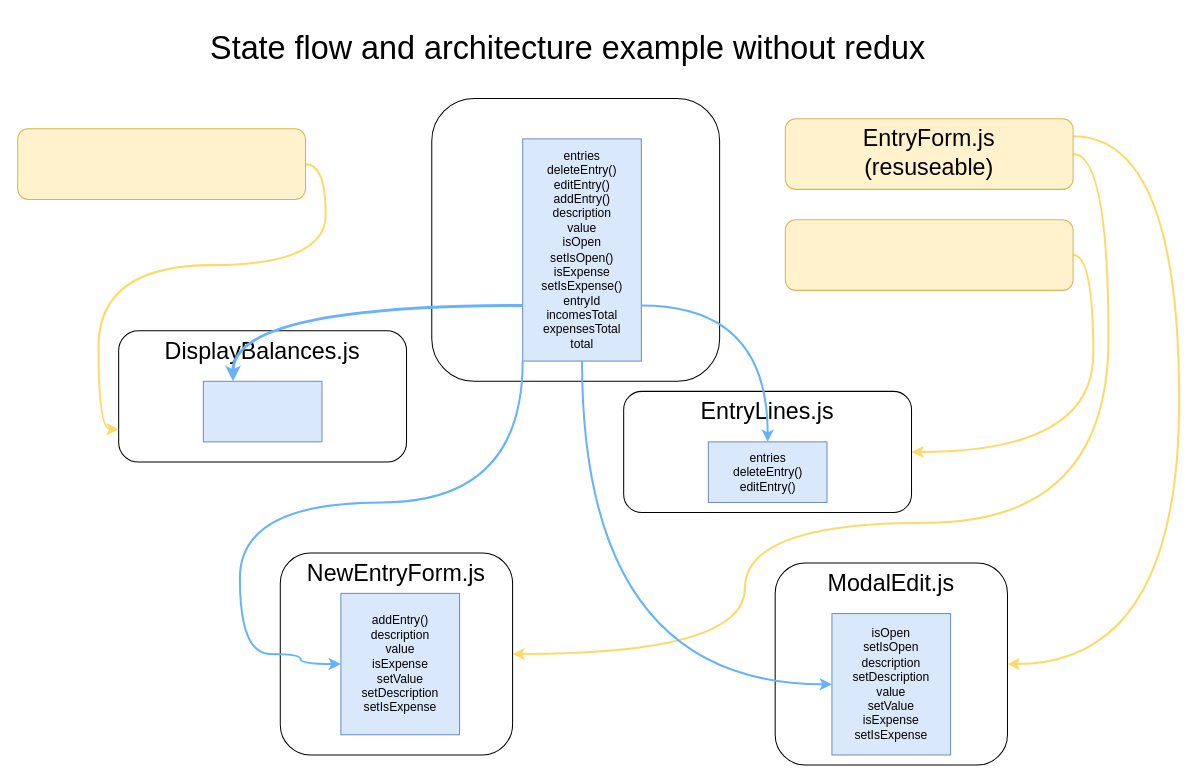
This 1198x783 diagram has some shape labels left out. The box of each missing label's shape, as (x1, y1, x2, y2) in pixels:
app.js: (431, 97, 720, 381)
DisplayBalance.js (resuseable): (17, 128, 306, 199)
EntryLine.js (resuseable): (784, 219, 1073, 290)
incomesTotal expensesTotall total: (202, 380, 322, 442)
